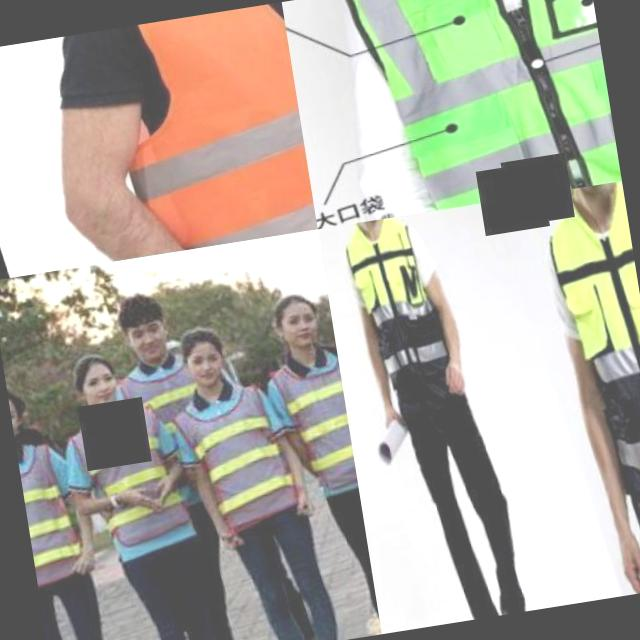vest: (320, 0, 622, 223), (88, 2, 318, 260), (529, 198, 640, 517), (328, 219, 459, 432), (64, 406, 194, 562), (177, 390, 305, 526), (16, 440, 90, 597), (272, 362, 357, 488)
